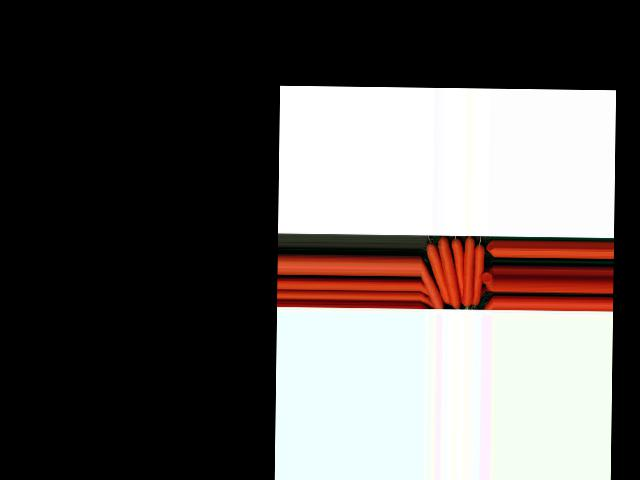carrot: (439, 233, 462, 308)
